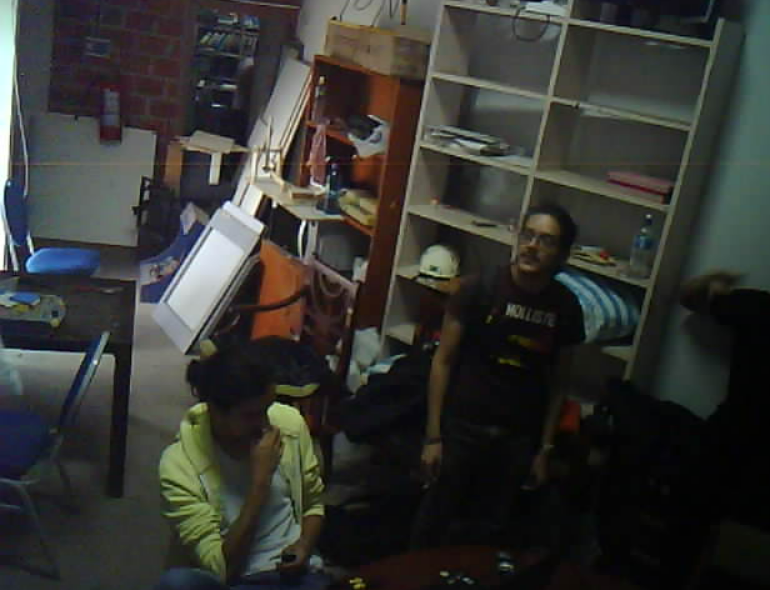person: (120, 307, 382, 590), (431, 176, 596, 563)
